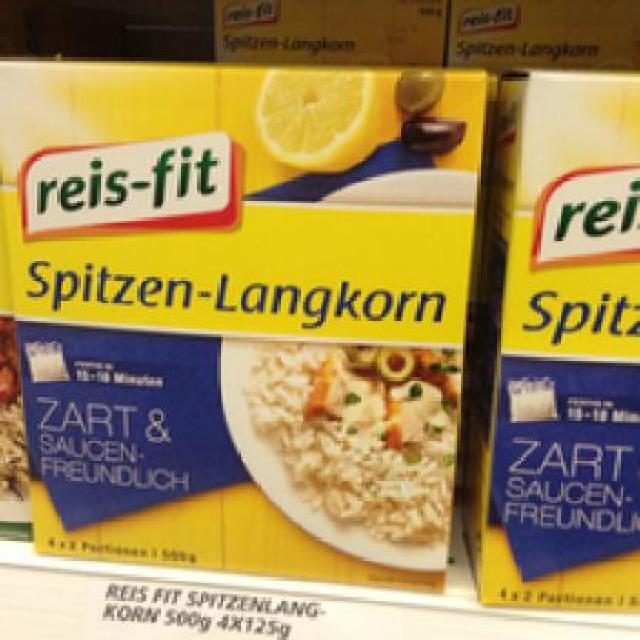Rice: (0, 57, 483, 594)
